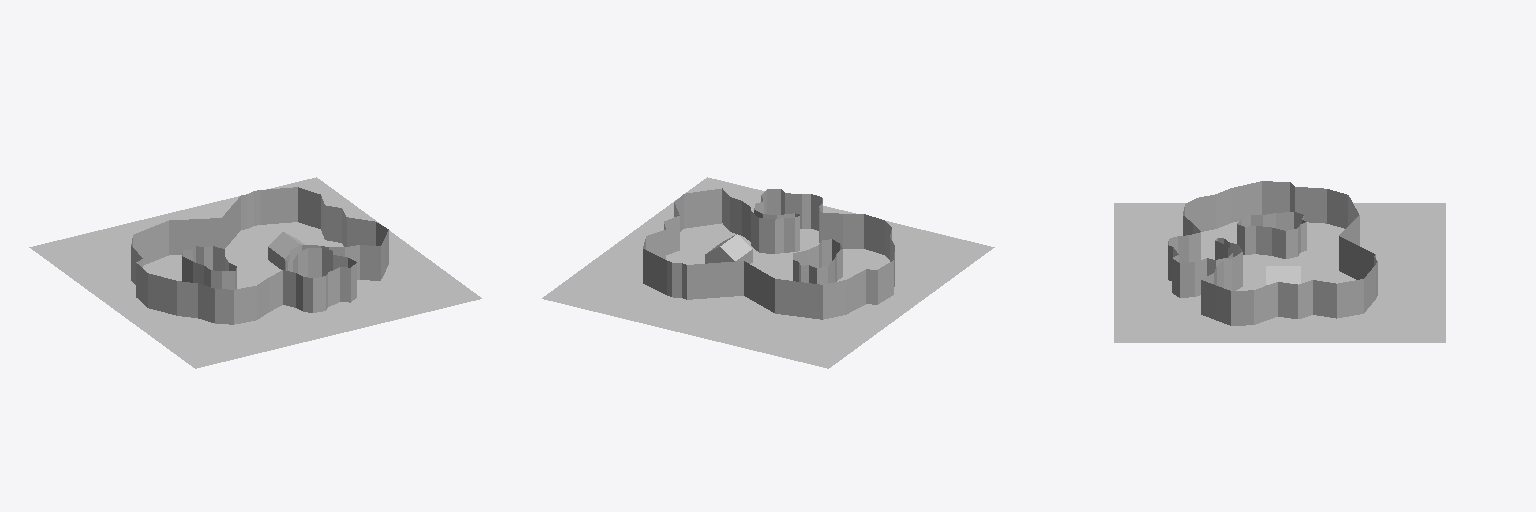
The model's file is rock.obj.
3 views of the same model, side by side, from view 1: azimuth 30°, elevation 25°; view 2: azimuth 150°, elevation 25°; view 3: azimuth 270°, elevation 25° (orthographic).
Visible parts, largest first — view 1: Plane.002, Plane, Plane.001, Cube_Cube.001; view 2: Plane.002, Plane, Plane.001, Cube_Cube.001; view 3: Plane.002, Plane, Plane.001, Cube_Cube.001.
Part boxes in pixels (x1,y1,x2,y2): Plane.002: (29,177,481,368); Plane: (131,187,388,324); Plane.001: (182,246,236,289); Cube_Cube.001: (268,232,304,269); Plane.002: (542,177,994,368); Plane: (643,188,894,319); Plane.001: (793,239,842,284); Cube_Cube.001: (705,234,752,263); Plane.002: (1114,203,1445,342); Plane: (1168,181,1377,325); Plane.001: (1237,212,1306,258); Cube_Cube.001: (1266,266,1300,285).
Bounding box in the file's own units: 51.68 × 6.14 × 51.68.